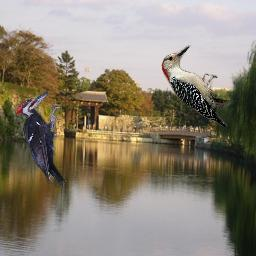Woodpecker: (161, 45, 233, 128), (15, 90, 66, 188)
